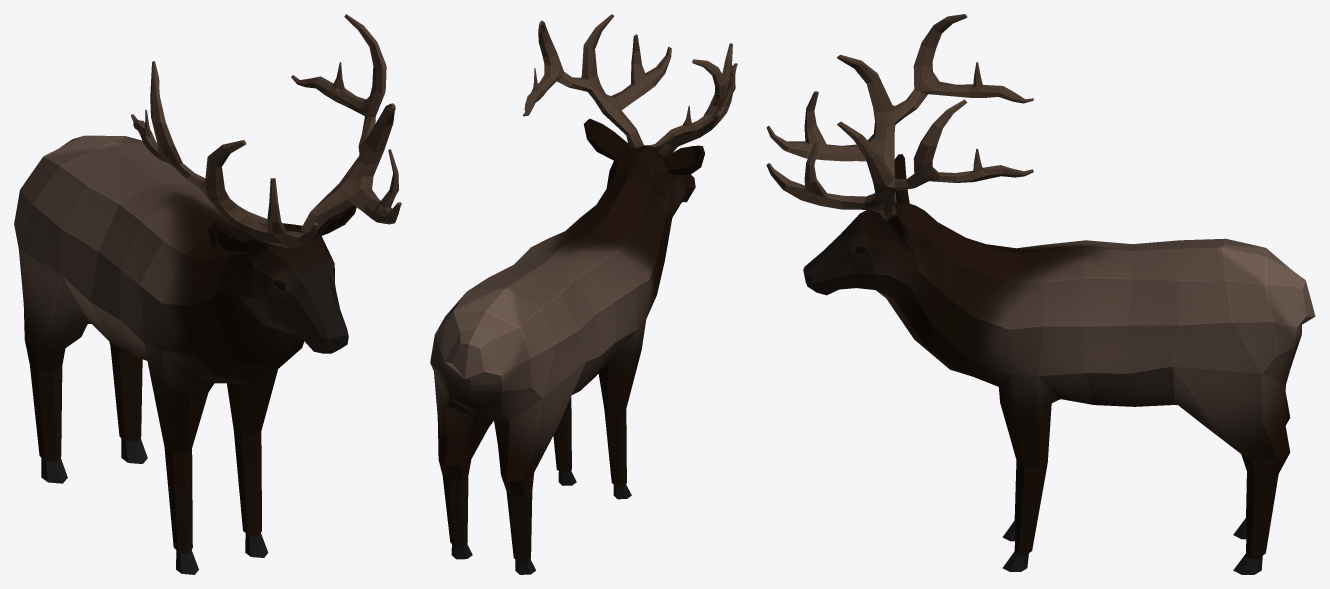
3 renders of one model, left to right at view 1: azimuth 30°, elevation 25°; view 2: azimuth 150°, elevation 25°; view 3: azimuth 270°, elevation 25°, orthographic. The views are drawn at different scales.
Parts seen in each view (by area): view 1: node-0; view 2: node-0; view 3: node-0.
Part boxes in pixels (left/top/right/bottom): node-0: left=14, top=14, right=401, bottom=574; node-0: left=430, top=14, right=737, bottom=574; node-0: left=766, top=14, right=1315, bottom=574.
Bounding box in the file's own units: 7.04 × 15.74 × 15.79.
1 material, 1 textured.
